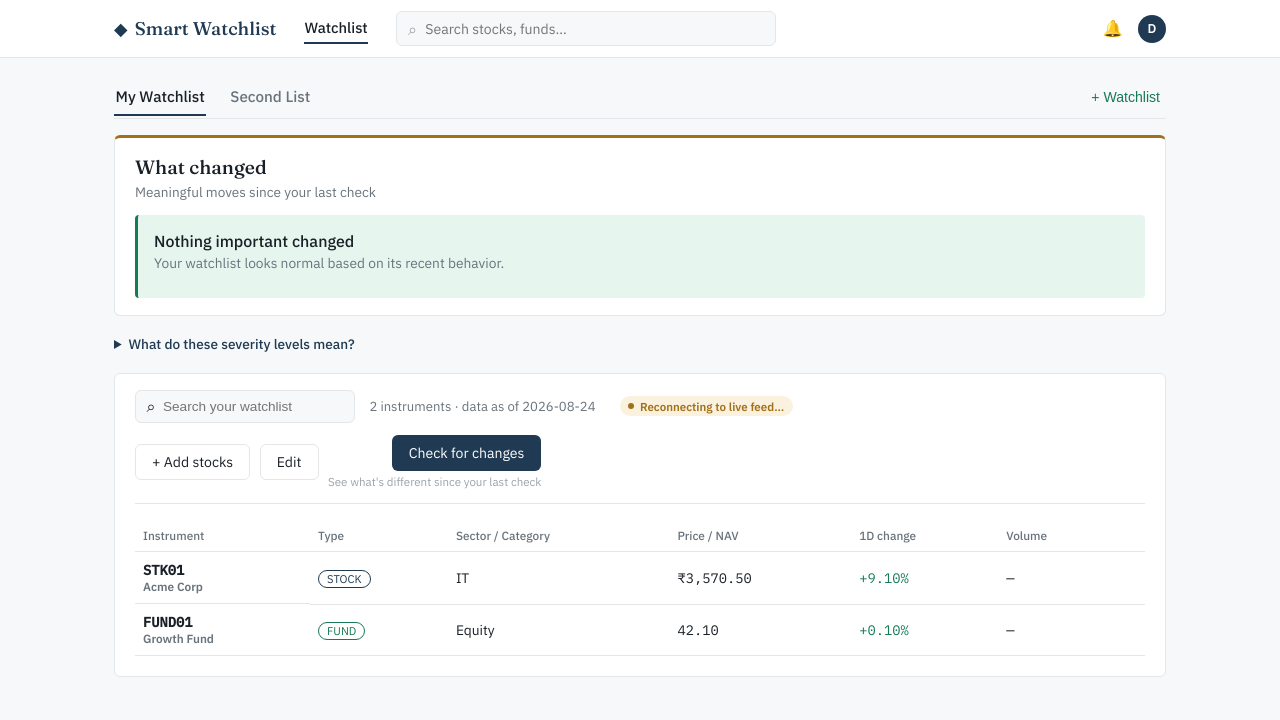
it: App — Feature 5: simulated live feed › does not show a stale reconnecting message after switching to a different watchlist
The width and height of the screenshot is (1280, 720).
Expected: the text "STK01" is shown, [143,561,184,579]
Expected: the text "Reconnecting to live feed…" is shown, [620,396,793,416]
What coordinates should you click on to do the following:
click the tab "Second List"
I would click on:
 (270, 97)
Its box is [229,78,312,116].
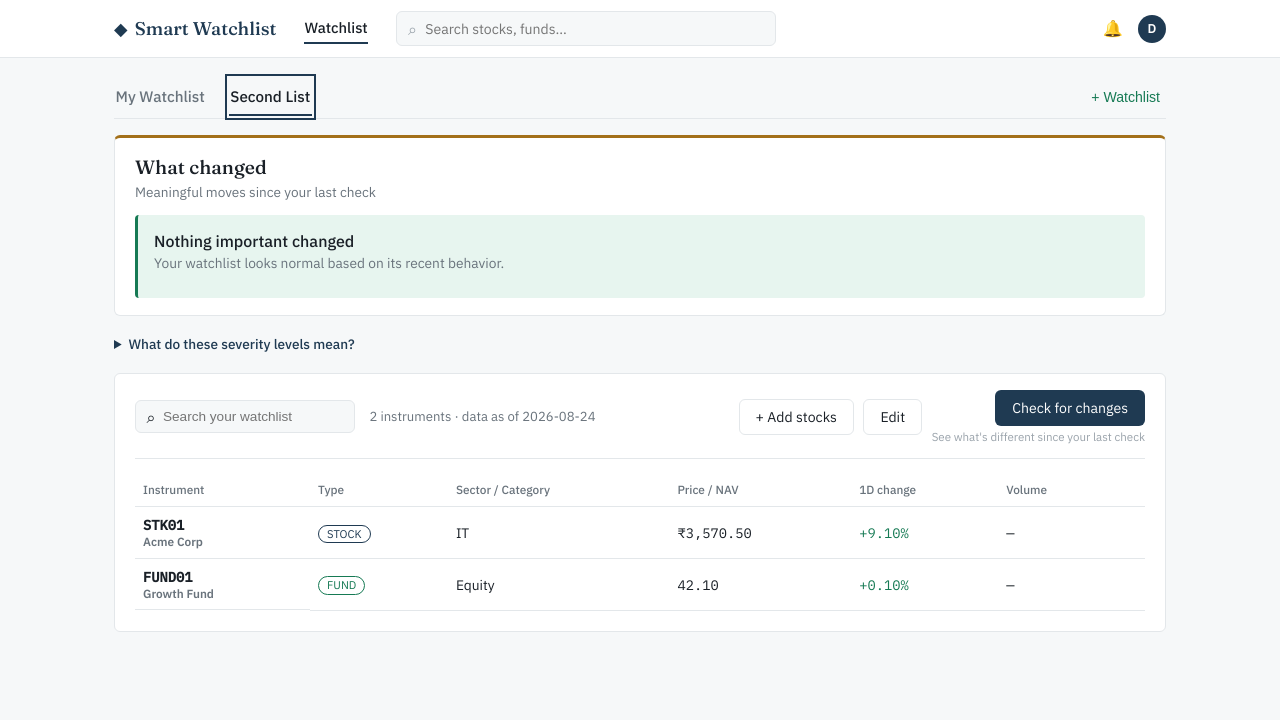
Expected: the text "Reconnecting to live feed" is gone
